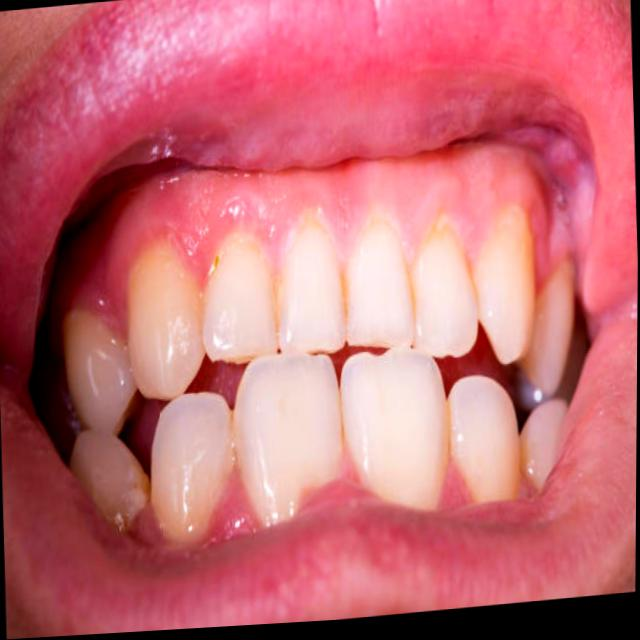gingivitis: (147, 162, 546, 268)
